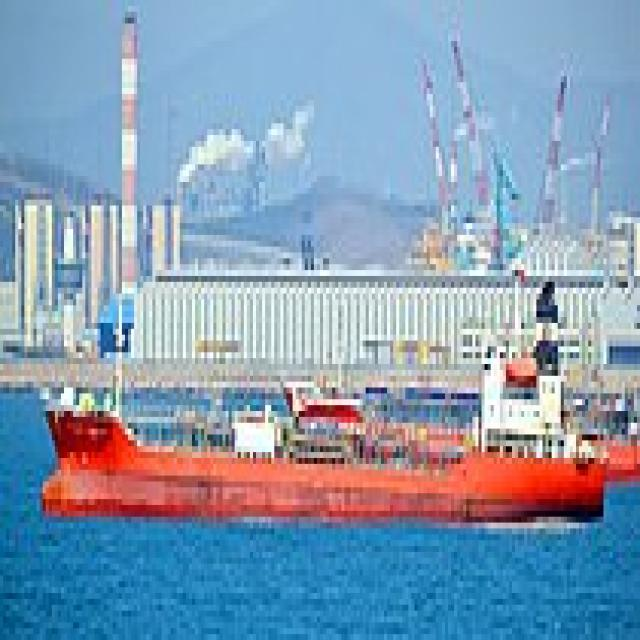Tanker: (36, 264, 604, 523)
